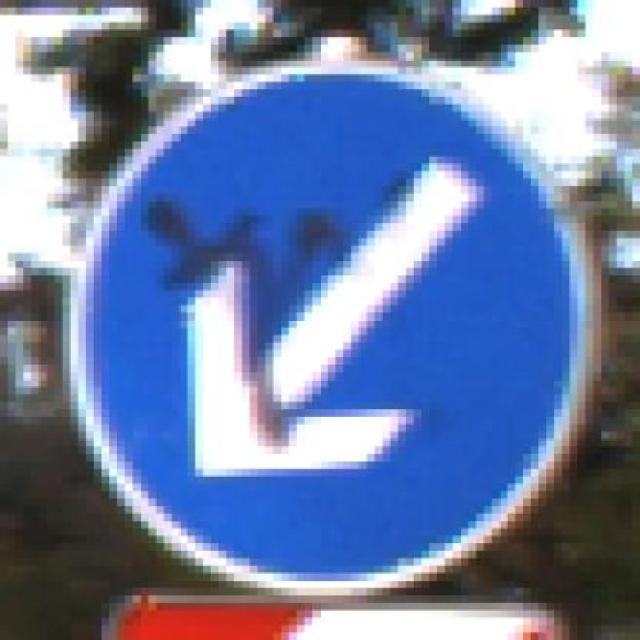Keep-Left: (31, 44, 624, 596)
